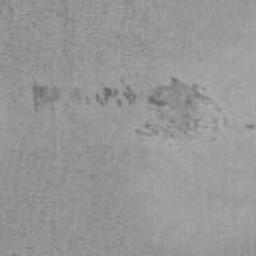Oil spot: (29, 74, 232, 161)
